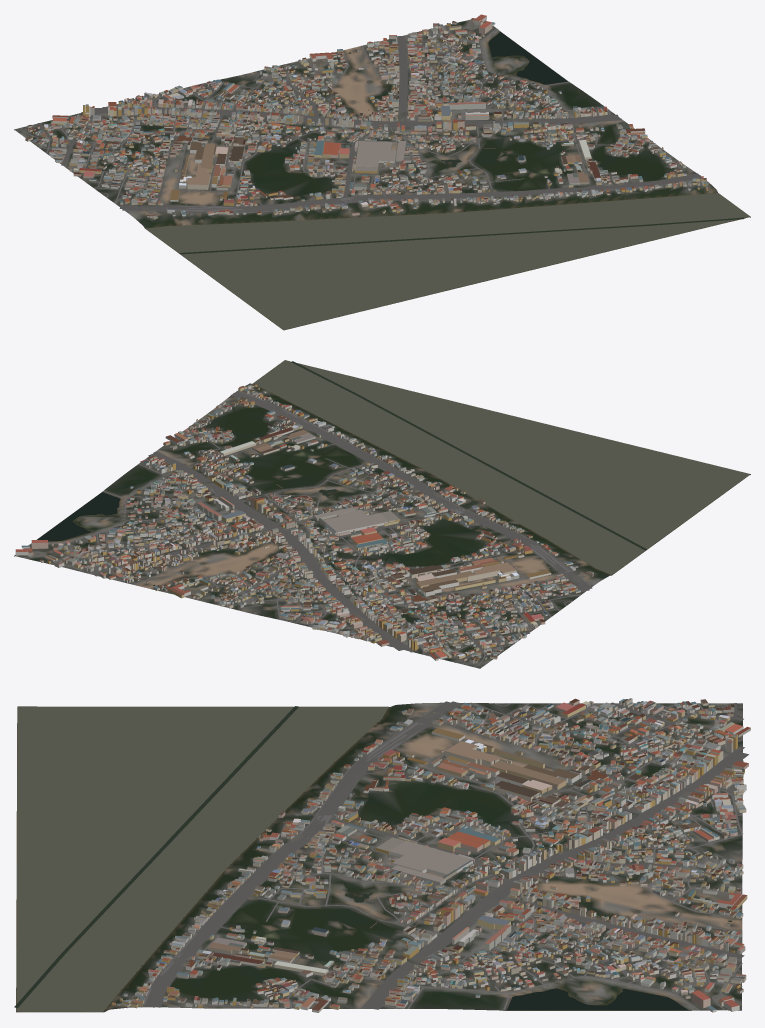
The picture shows the model from 3 angles, top to bottom: view 1: azimuth 30°, elevation 25°; view 2: azimuth 150°, elevation 25°; view 3: azimuth 270°, elevation 25°; orthographic projection. The views are drawn at different scales.
Parts seen in each view (by area): view 1: buildings, ground, water, roads; view 2: buildings, ground, water, roads; view 3: buildings, water, ground, roads.
Part boxes in pixels (x1=…): buildings: x1=25, y1=14, x2=708, y2=219; ground: x1=14, y1=19, x2=750, y2=330; water: x1=146, y1=32, x2=749, y2=329; roads: x1=16, y1=21, x2=709, y2=214; buildings: x1=15, y1=384, x2=593, y2=663; ground: x1=14, y1=360, x2=750, y2=668; water: x1=37, y1=360, x2=749, y2=585; roads: x1=21, y1=390, x2=592, y2=666; buildings: x1=111, y1=698, x2=750, y2=1012; water: x1=14, y1=706, x2=731, y2=1011; ground: x1=16, y1=702, x2=742, y2=1012; roads: x1=127, y1=701, x2=748, y2=1010.
Bounding box in the file's own units: 1423 × 39.76 × 1423.
